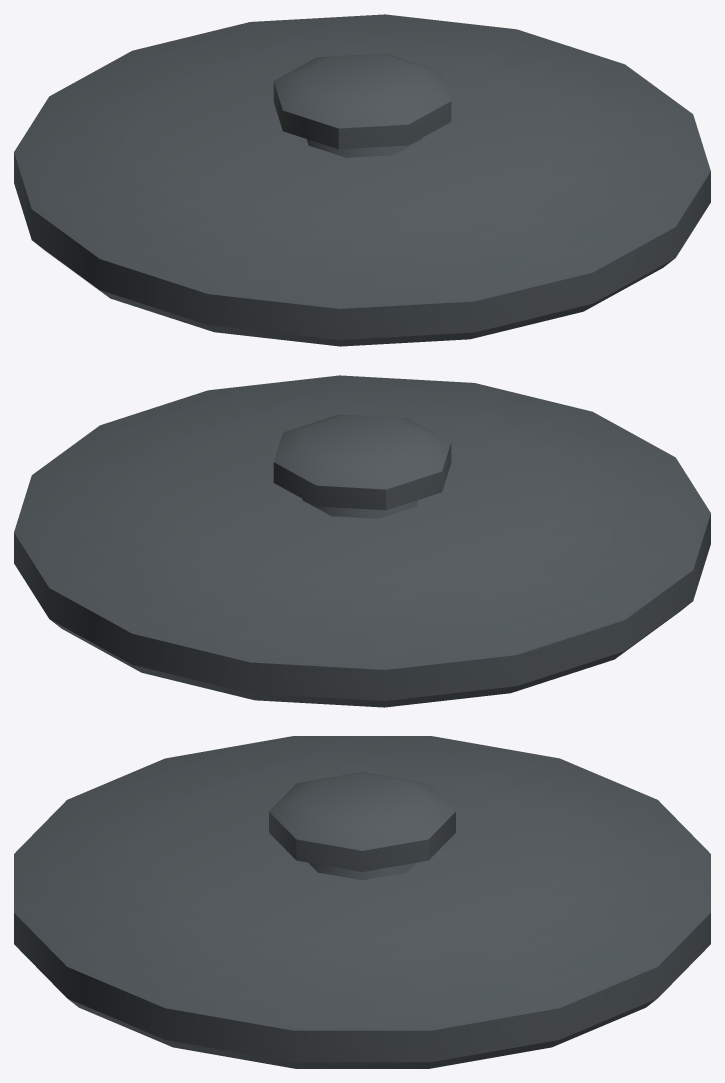
File: kay-lid_b.glb
3 renders of one model, top to bottom at view 1: azimuth 30°, elevation 25°; view 2: azimuth 150°, elevation 25°; view 3: azimuth 270°, elevation 25°, orthographic.
Parts seen in each view (by area): view 1: lid_B; view 2: lid_B; view 3: lid_B.
Boxes of the visible parts, box(x1,y1,x2,y2) form: lid_B: box(14, 14, 710, 346); lid_B: box(14, 375, 710, 707); lid_B: box(14, 736, 710, 1068).
Size of the model in its own units: 0.22 by 0.0441 by 0.22.
Materials: 1 (1 with a texture image).
